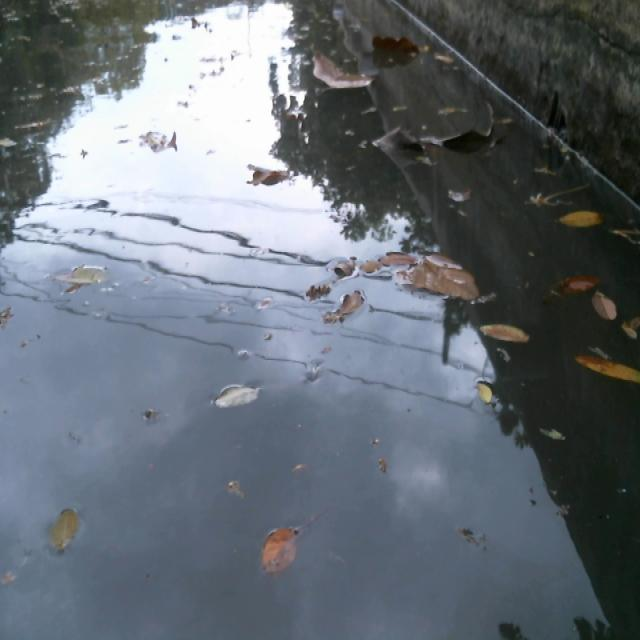Big-leaf: (306, 46, 375, 102), (412, 253, 479, 306), (426, 112, 500, 158), (368, 109, 425, 164), (362, 29, 435, 70)
Small-leaf: (575, 339, 640, 391), (52, 252, 113, 302), (256, 524, 322, 570), (233, 156, 302, 195), (555, 198, 608, 243), (521, 177, 595, 208), (477, 316, 534, 353), (46, 503, 82, 554), (216, 377, 266, 412), (140, 123, 185, 159), (551, 267, 598, 301), (365, 248, 410, 275), (318, 248, 359, 277), (445, 182, 478, 218), (479, 377, 507, 417), (591, 287, 619, 325), (537, 423, 574, 448), (335, 291, 363, 324), (257, 292, 285, 319), (308, 286, 336, 308), (625, 312, 640, 348), (224, 481, 247, 498)
